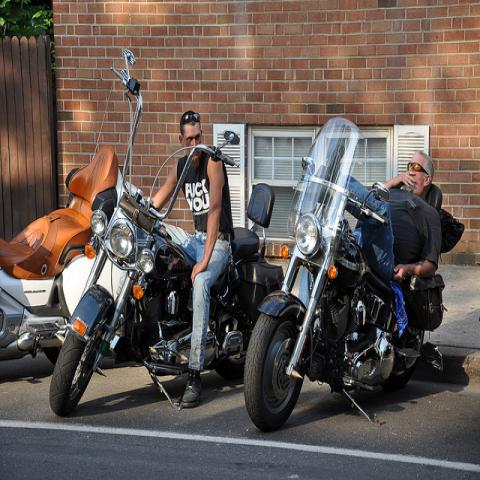motorcycle: (56, 64, 281, 410), (247, 116, 449, 429), (2, 146, 123, 366)
